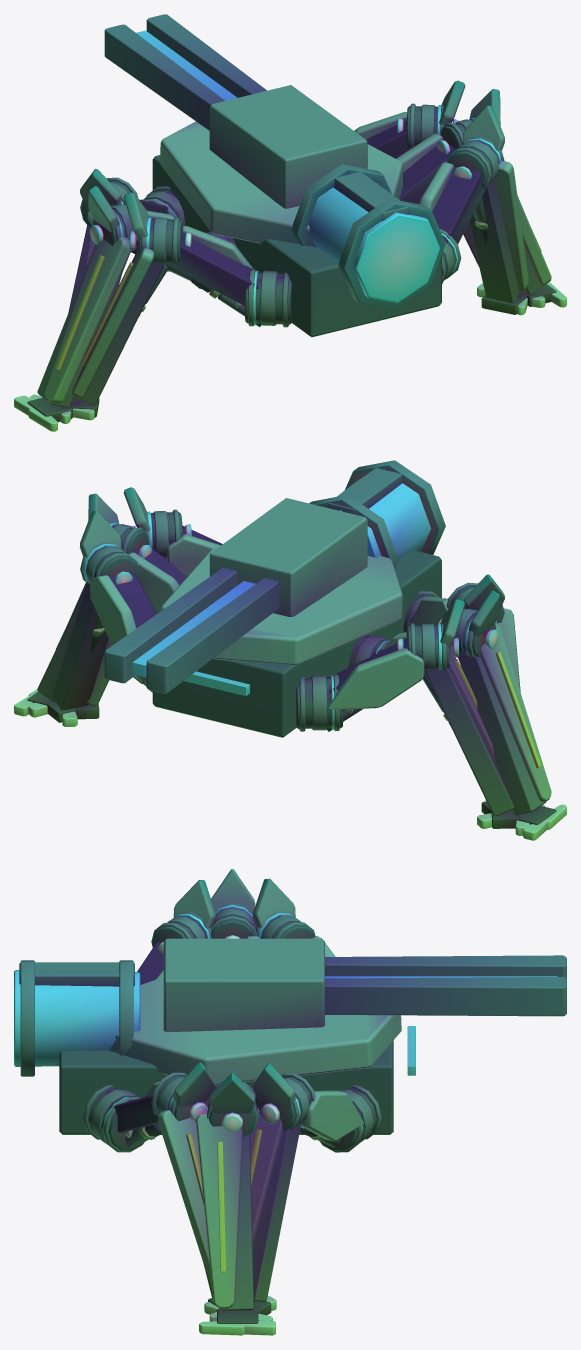
The model's file is spitter.glb.
3 views of the same model, one above another, from view 1: azimuth 30°, elevation 25°; view 2: azimuth 150°, elevation 25°; view 3: azimuth 270°, elevation 25° (orthographic). The views are drawn at different scales.
Parts seen in each view (by area): view 1: Gun__armor_sub, Body__armor, Body__dark, SacMain__emit_core, Gun__gunmetal, Body__gunmetal, Hip_5_Knee__gunmetal, Hip_2_Knee__armor, Hip_4__dark, Hip_4_Knee__gunmetal, Hip_4_Knee__armor, Hip_5__dark (+29 smaller); view 2: Gun__armor_sub, Body__dark, Body__armor, Gun__gunmetal, Hip_0_Knee__gunmetal, Hip_2_Knee__gunmetal, Hip_1_Knee__gunmetal, Hip_0__armor, Body__gunmetal, Hip_2_Knee__armor, SacMain__emit_core, Hip_1__armor (+27 smaller); view 3: Gun__armor_sub, Gun__gunmetal, Body__armor, Body__dark, SacMain__emit_core, Hip_3_Knee__armor, Hip_1_Knee__gunmetal, Hip_5_Knee__armor, Body__gunmetal, Hip_3_Knee__gunmetal, Hip_1__armor, SacMain__armor_dark (+21 smaller).
Part boxes in pixels (box(x1,y1,x2,y2)): Gun__armor_sub: box(209, 85, 367, 208); Body__armor: box(160, 121, 403, 247); Body__dark: box(152, 155, 441, 337); SacMain__emit_core: box(308, 187, 440, 302); Gun__gunmetal: box(104, 14, 266, 130); Body__gunmetal: box(291, 164, 445, 309); Hip_5_Knee__gunmetal: box(447, 136, 520, 303); Hip_2_Knee__armor: box(45, 236, 130, 403); Hip_4__dark: box(165, 233, 291, 326); Hip_4_Knee__gunmetal: box(75, 216, 179, 405); Hip_4_Knee__armor: box(72, 248, 154, 398); Hip_5__dark: box(432, 167, 486, 270); Gun__armor_sub: box(209, 498, 367, 616); Body__dark: box(152, 550, 441, 737); Body__armor: box(160, 546, 403, 665); Gun__gunmetal: box(104, 568, 279, 693); Hip_0_Knee__gunmetal: box(409, 623, 514, 815); Hip_2_Knee__gunmetal: box(452, 608, 546, 815); Hip_1_Knee__gunmetal: box(52, 542, 139, 710); Hip_0__armor: box(327, 648, 424, 709); Body__gunmetal: box(309, 460, 445, 568); Hip_2_Knee__armor: box(480, 622, 551, 801); SacMain__emit_core: box(339, 479, 431, 559); Hip_1__armor: box(90, 575, 136, 643); Gun__armor_sub: box(163, 938, 324, 1031); Gun__gunmetal: box(325, 955, 566, 1016); Body__armor: box(109, 977, 401, 1085); Body__dark: box(59, 1040, 393, 1134); SacMain__emit_core: box(14, 970, 140, 1066); Hip_3_Knee__armor: box(196, 1113, 242, 1308); Hip_1_Knee__gunmetal: box(252, 1073, 315, 1302); Hip_5_Knee__armor: box(158, 1110, 212, 1289); Body__gunmetal: box(20, 960, 133, 1076); Hip_3_Knee__gunmetal: box(207, 1082, 258, 1310); Hip_1__armor: box(301, 1090, 363, 1141); SacMain__armor_dark: box(19, 962, 134, 986).
Bounding box in the file's own units: 2.12 × 0.9 × 1.85.
